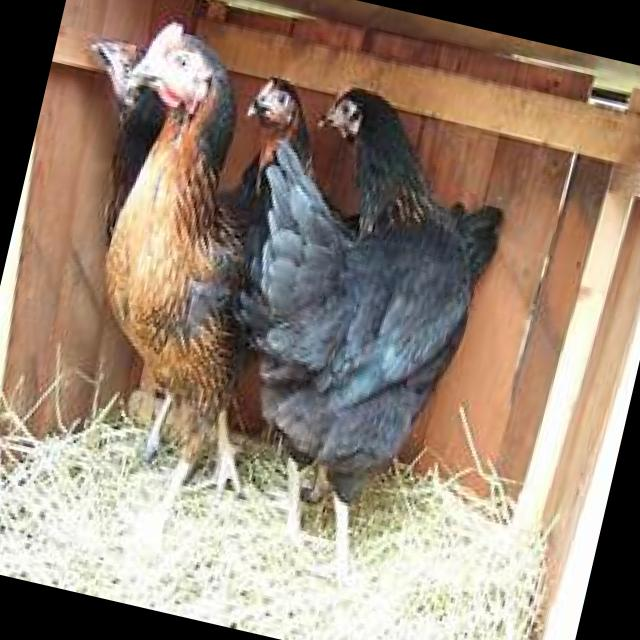animal: (176, 69, 527, 600), (0, 2, 343, 517)
